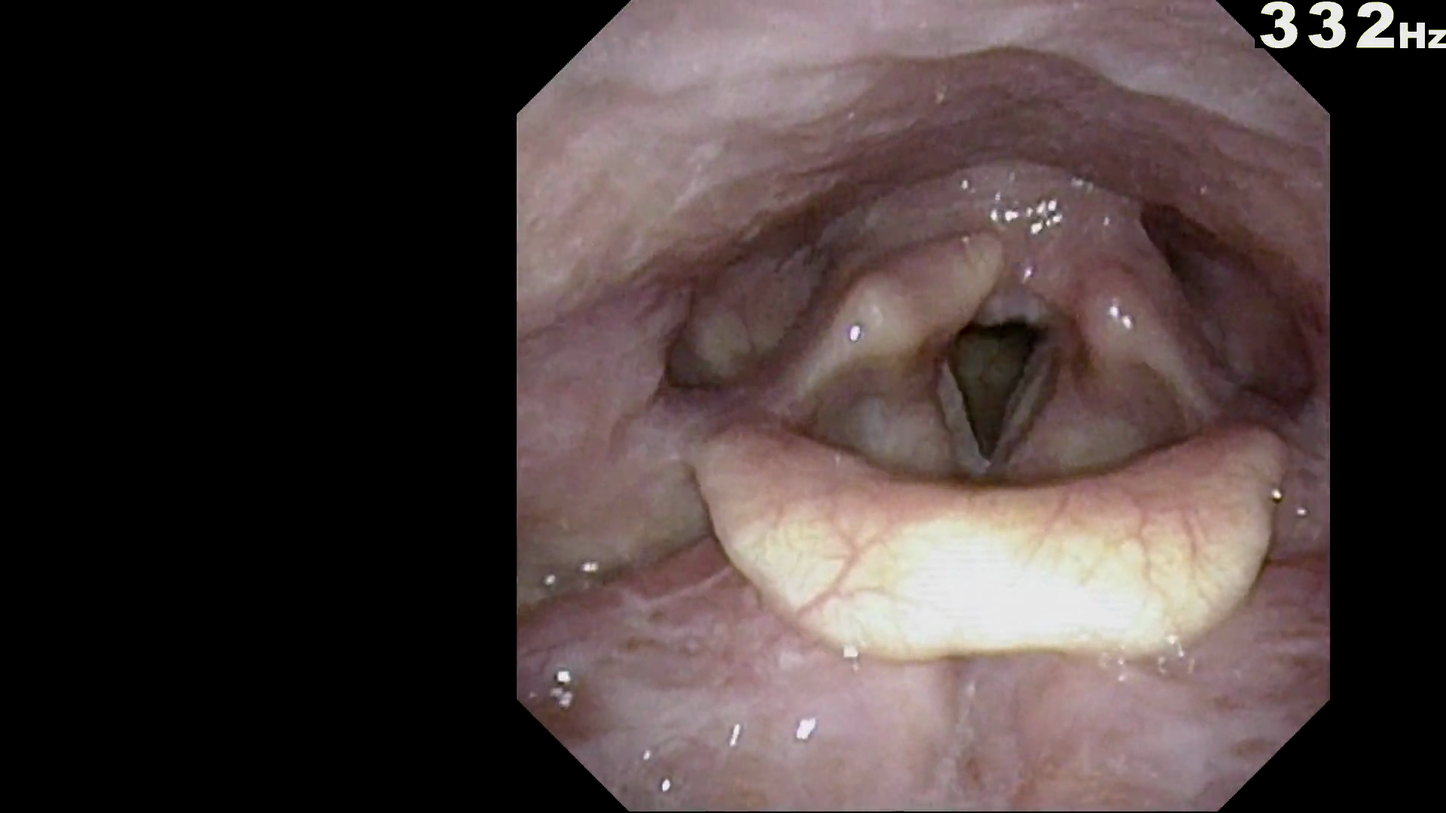epiglottis: (683, 405, 1291, 665)
trachea: (905, 295, 1082, 501)
